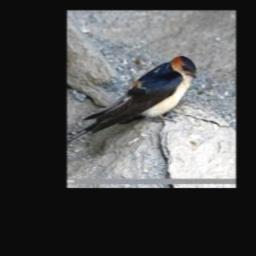Swallow: (67, 56, 197, 143)
